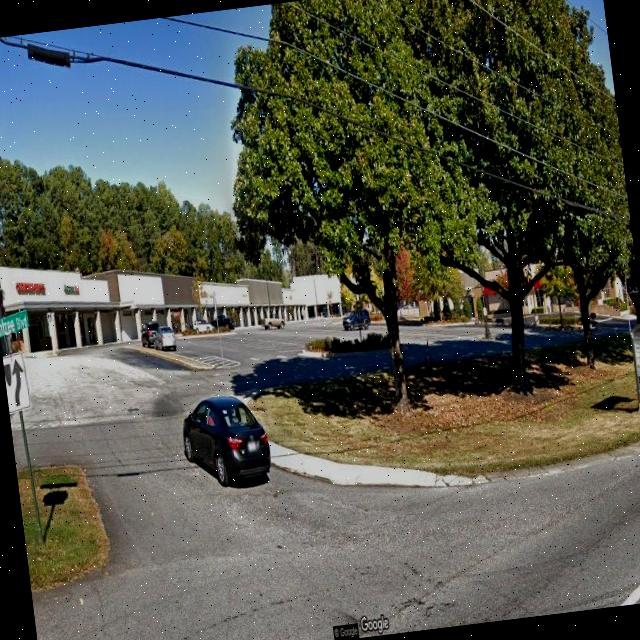shelter: (626, 321, 640, 414)
